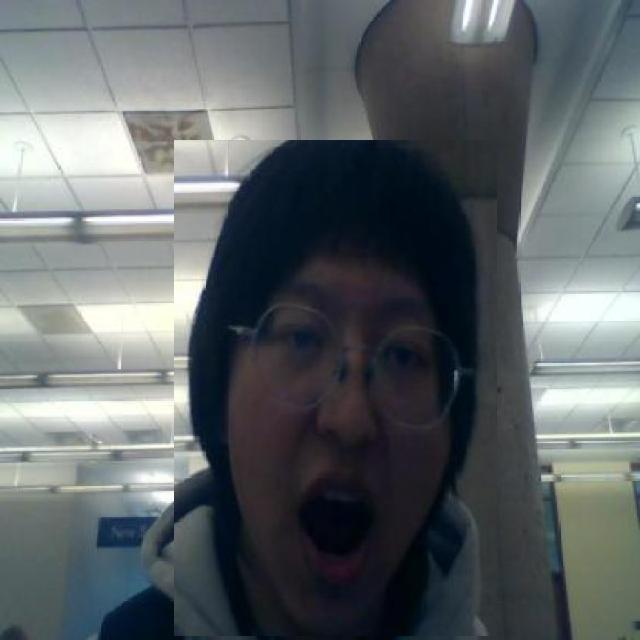Yawn: (175, 140, 498, 636)
